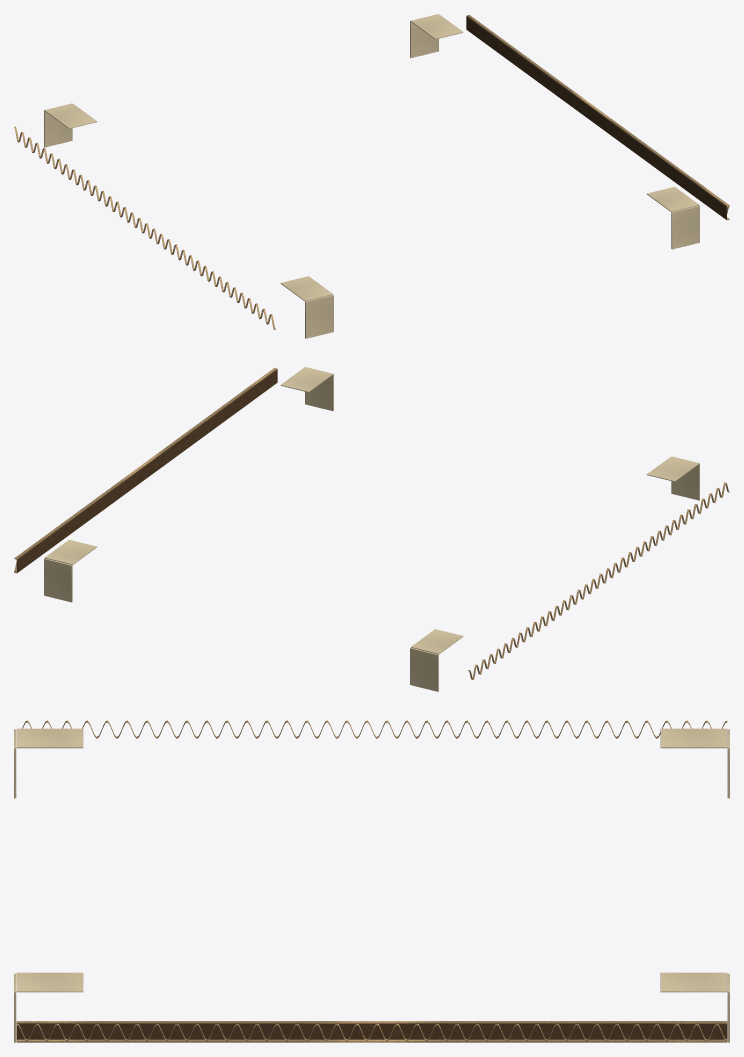
Rendered from 6-pencil-supported-box-3-2.fbx.
The picture shows the model from 3 angles, top to bottom: view 1: azimuth 30°, elevation 25°; view 2: azimuth 150°, elevation 25°; view 3: azimuth 270°, elevation 25°; orthographic projection. The views are drawn at different scales.
Parts seen in each view (by area): view 1: pencil-supported-box-3-2; view 2: pencil-supported-box-3-2; view 3: pencil-supported-box-3-2.
Part boxes in pixels (x1,y1,x2,y2): pencil-supported-box-3-2: (14, 14, 729, 338); pencil-supported-box-3-2: (14, 367, 729, 691); pencil-supported-box-3-2: (14, 720, 729, 1042).
Bounding box in the file's own units: 6472 × 509 × 6446.
1 material, 1 textured.
